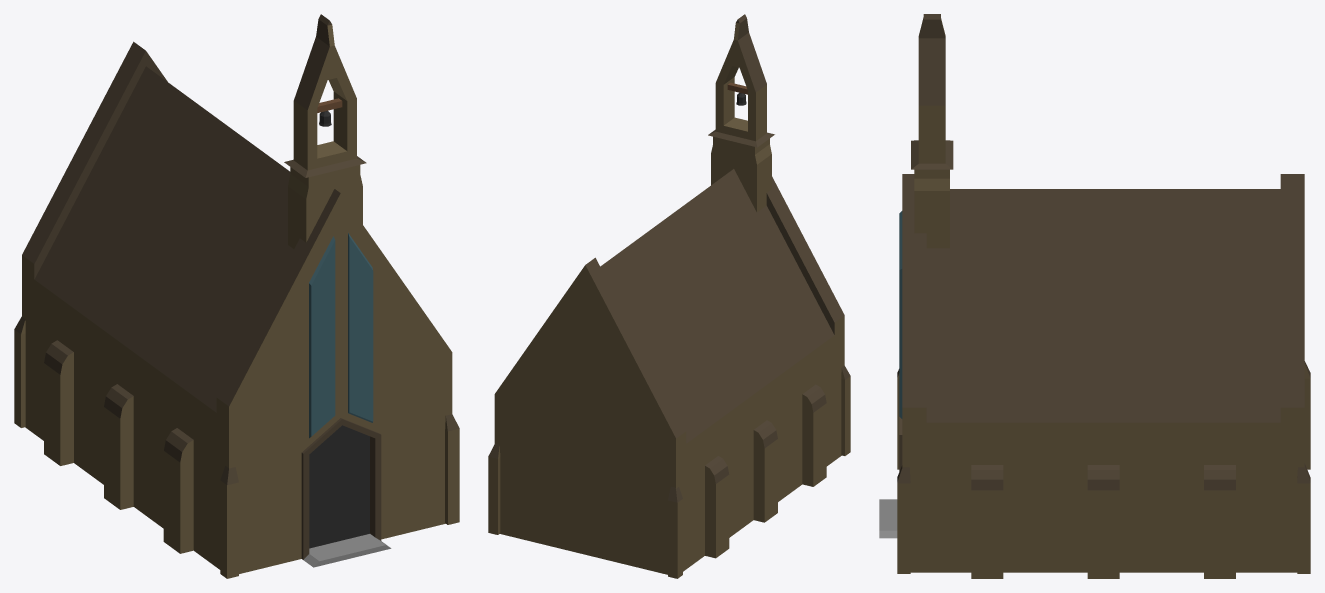
File: Church_mat.fbx
The picture shows the model from 3 angles, left to right: view 1: azimuth 30°, elevation 25°; view 2: azimuth 150°, elevation 25°; view 3: azimuth 270°, elevation 25°; orthographic projection. The views are drawn at different scales.
Visible parts, largest first — view 1: Church_mat; view 2: Church_mat; view 3: Church_mat.
Boxes of the visible parts, x1=… form: Church_mat: x1=14, y1=14, x2=459, y2=578; Church_mat: x1=488, y1=14, x2=850, y2=578; Church_mat: x1=879, y1=14, x2=1310, y2=578.
Bounding box in the file's own units: 448 × 891 × 688.
